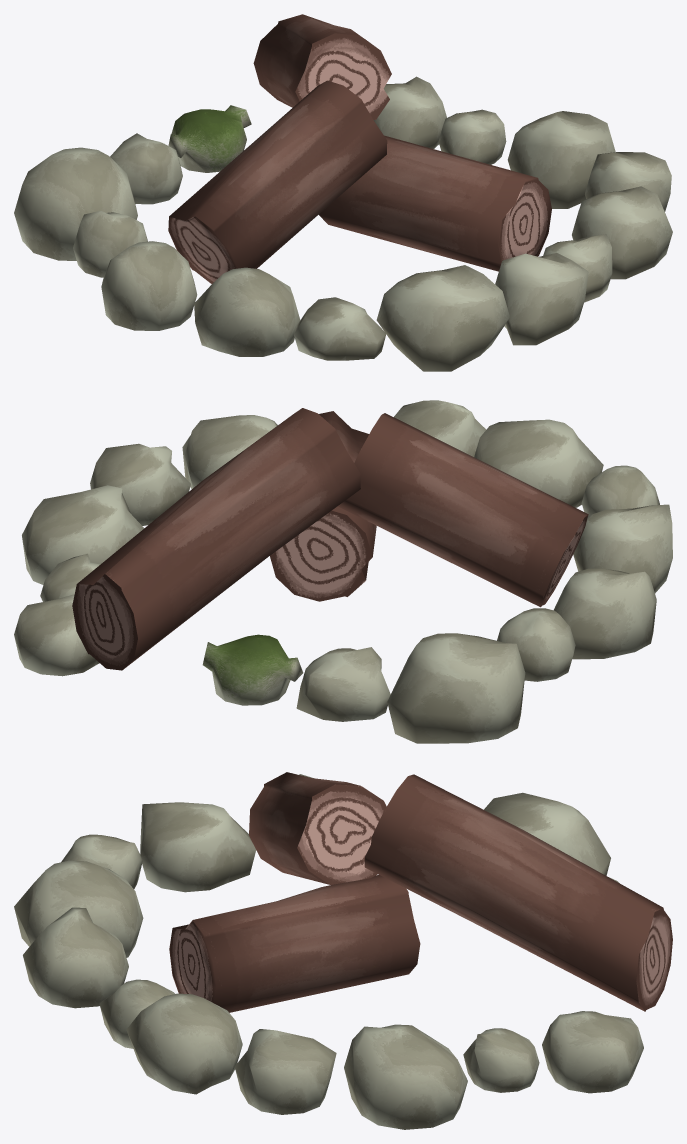
Rendered from Campfire.fbx.
3 renders of one model, top to bottom at view 1: azimuth 30°, elevation 25°; view 2: azimuth 150°, elevation 25°; view 3: azimuth 270°, elevation 25°, orthographic. The views are drawn at different scales.
Parts seen in each view (by area): view 1: Sphere, Cylinder; view 2: Sphere, Cylinder; view 3: Cylinder, Sphere.
Boxes of the visible parts, bbox=[...] form: Sphere: bbox=[14, 76, 672, 371]; Cylinder: bbox=[168, 14, 551, 283]; Sphere: bbox=[14, 400, 672, 743]; Cylinder: bbox=[72, 408, 588, 670]; Cylinder: bbox=[169, 772, 672, 1012]; Sphere: bbox=[14, 774, 643, 1129].
Size of the model in its own units: 259 by 96.51 by 259.
